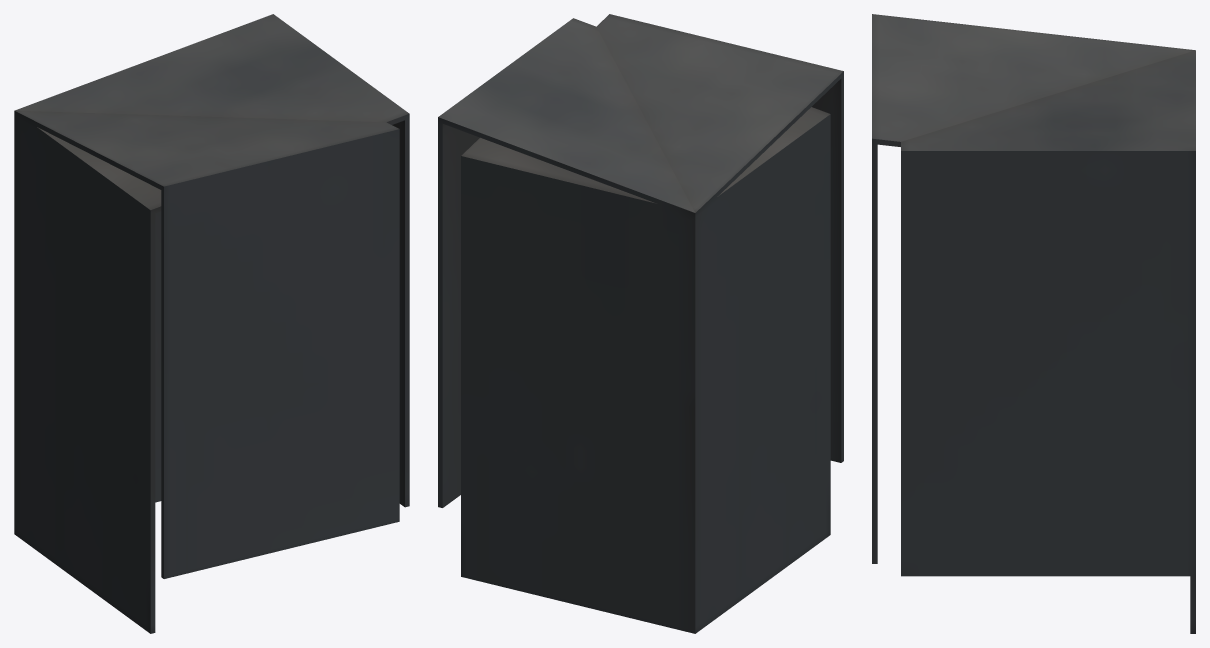
The model's file is Corner_Top.fbx.
3 renders of one model, left to right at view 1: azimuth 30°, elevation 25°; view 2: azimuth 150°, elevation 25°; view 3: azimuth 270°, elevation 25°, orthographic. The views are drawn at different scales.
Parts seen in each view (by area): view 1: Corner_Top_LOD0; view 2: Corner_Top_LOD0; view 3: Corner_Top_LOD0.
Boxes of the visible parts, bbox=[...] form: Corner_Top_LOD0: bbox=[14, 14, 409, 633]; Corner_Top_LOD0: bbox=[438, 14, 843, 633]; Corner_Top_LOD0: bbox=[872, 14, 1195, 633].
Bounding box in the file's own units: 0.168 × 0.2834 × 0.168.
Materials: 1 (1 with a texture image).
